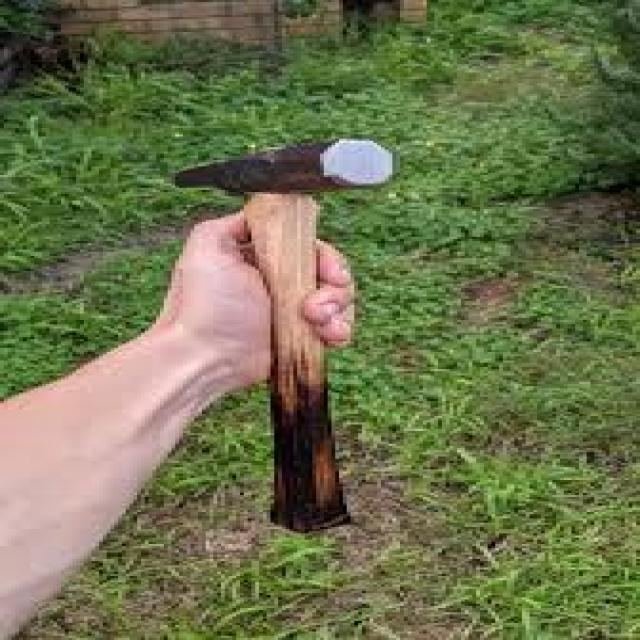hammer: (166, 128, 417, 550)
